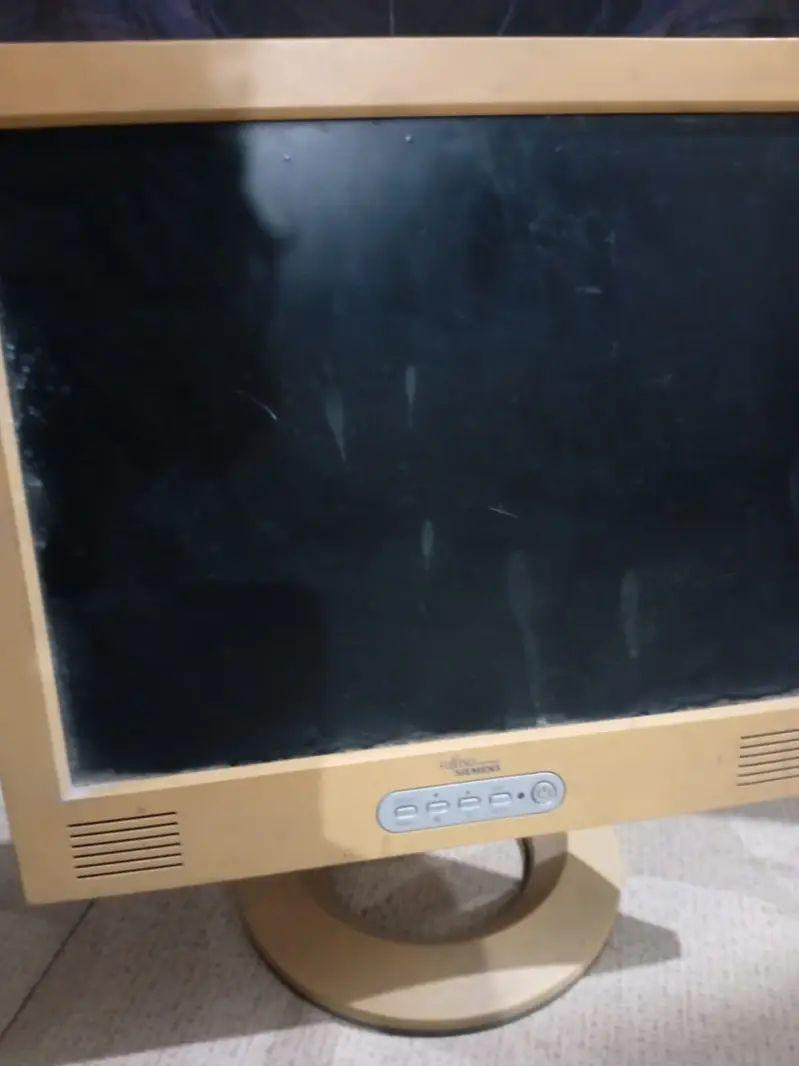electronic: (0, 0, 799, 1056)
